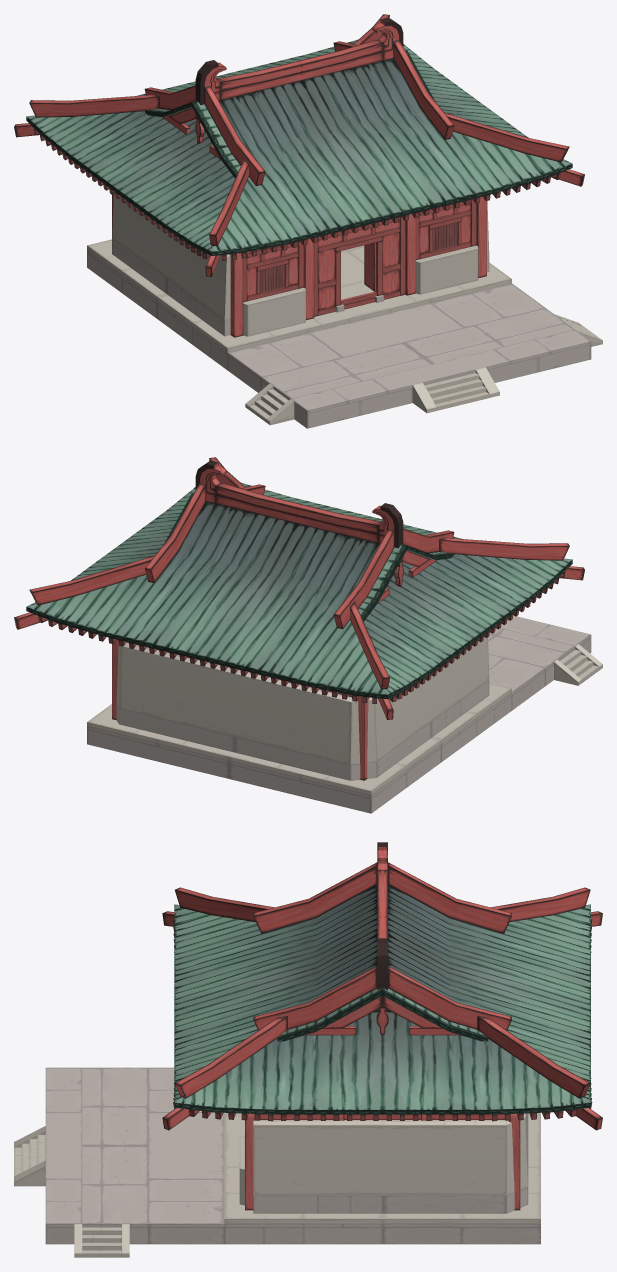
File: ReligionModules.fbx
3 views of the same model, one above another, from view 1: azimuth 30°, elevation 25°; view 2: azimuth 150°, elevation 25°; view 3: azimuth 270°, elevation 25° (orthographic). The views are drawn at different scales.
Visible parts, largest first — view 1: 2,3,1_1,1-1,1,1-13,31-1,1,1-0-0_0_128; view 2: 2,3,1_1,1-1,1,1-13,31-1,1,1-0-0_0_128; view 3: 2,3,1_1,1-1,1,1-13,31-1,1,1-0-0_0_128.
Part boxes in pixels (x1,y1,x2,y2): 2,3,1_1,1-1,1,1-13,31-1,1,1-0-0_0_128: [14, 14, 602, 428]; 2,3,1_1,1-1,1,1-13,31-1,1,1-0-0_0_128: [14, 457, 602, 813]; 2,3,1_1,1-1,1,1-13,31-1,1,1-0-0_0_128: [14, 842, 602, 1257].
Size of the model in its own units: 1515 by 927 by 1809.
